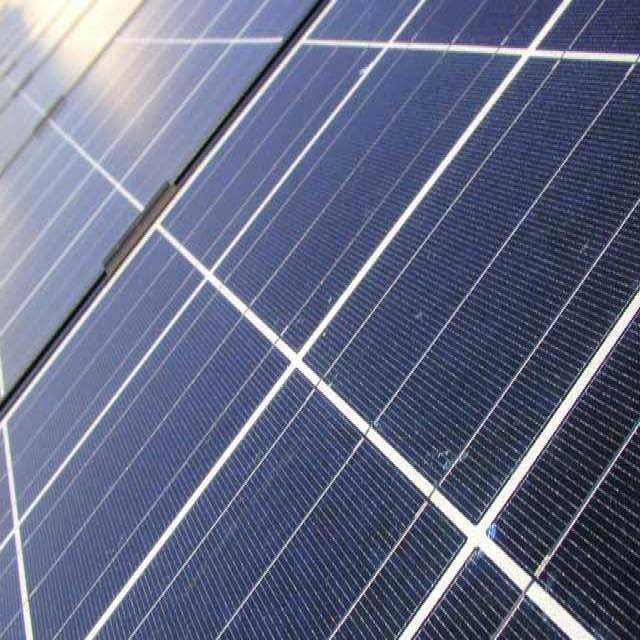clean-solar-panel: (0, 0, 639, 637)
